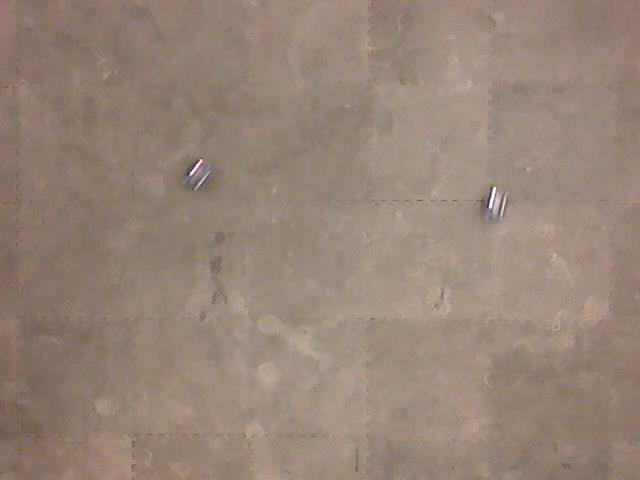Agent: (480, 183, 510, 223), (183, 156, 213, 193)
